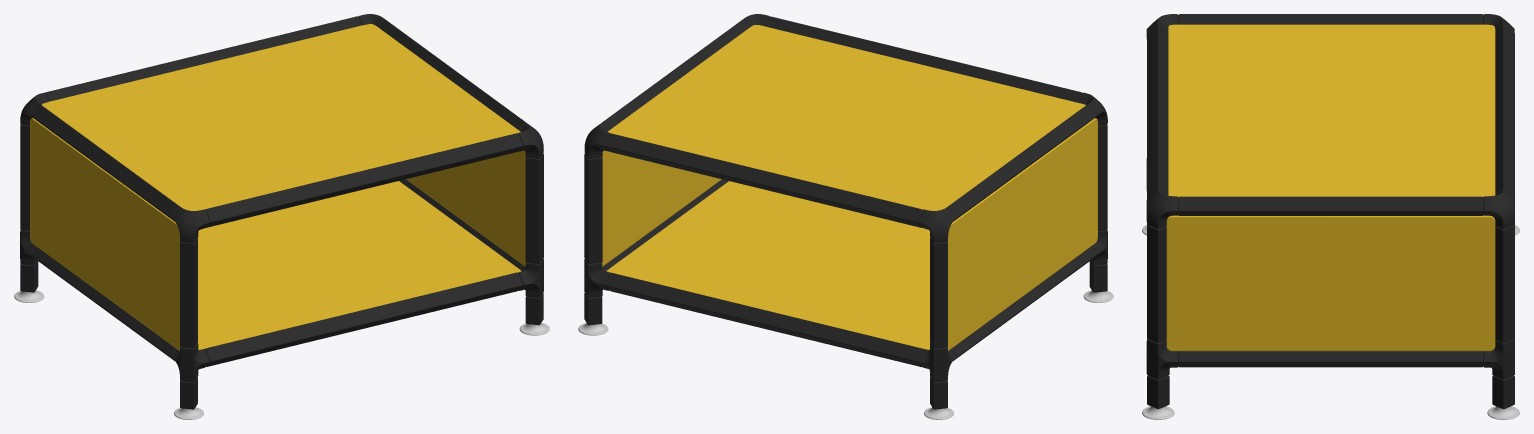
3 views of the same model, side by side, from view 1: azimuth 30°, elevation 25°; view 2: azimuth 150°, elevation 25°; view 3: azimuth 270°, elevation 25° (orthographic). The views are drawn at different scales.
Parts seen in each view (by area): view 1: 479x374x154; view 2: 479x374x154; view 3: 479x374x154.
Part boxes in pixels (left/top/right/bottom): 479x374x154: left=14, top=14, right=549, bottom=419; 479x374x154: left=578, top=14, right=1113, bottom=419; 479x374x154: left=1142, top=14, right=1519, bottom=419.
Bounding box in the file's own units: 0.5689 × 0.2933 × 0.4632.
